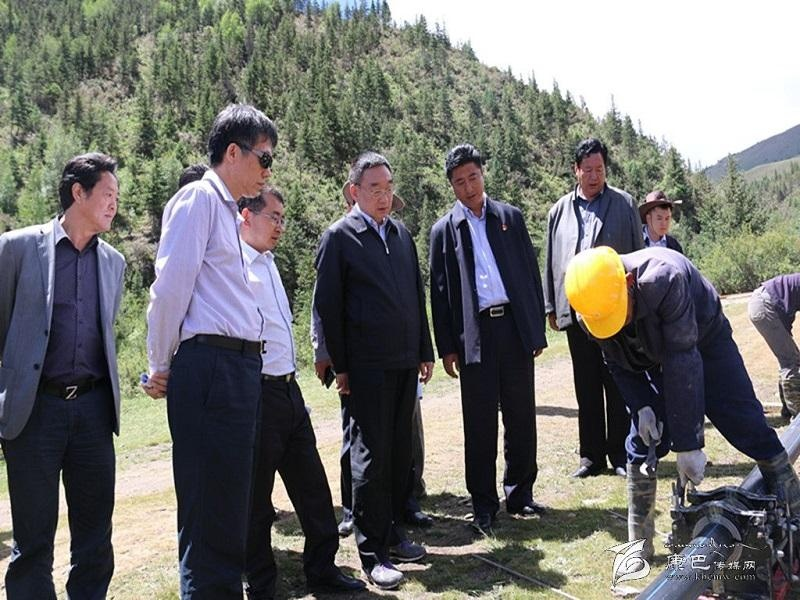none: (205, 102, 276, 197), (55, 151, 121, 236), (441, 142, 493, 209), (348, 153, 396, 220), (238, 186, 287, 250), (571, 140, 609, 196), (641, 190, 675, 236)
yellow: (564, 245, 636, 340)
